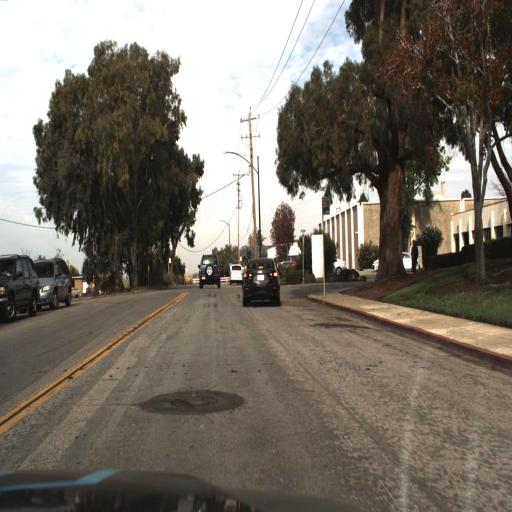car: (0, 251, 39, 324), (239, 254, 287, 311), (36, 254, 74, 308), (241, 256, 281, 305), (196, 246, 225, 292), (372, 247, 418, 274), (225, 258, 246, 288), (330, 254, 348, 280), (370, 251, 383, 276)
